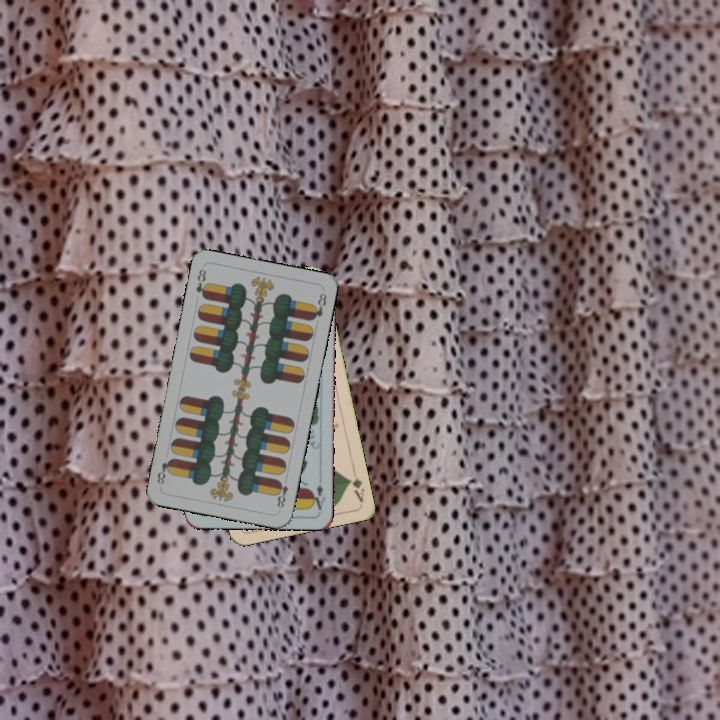E8: (192, 265, 211, 301), (272, 476, 291, 511)
EA: (309, 473, 328, 512)
GA: (344, 464, 367, 504)
